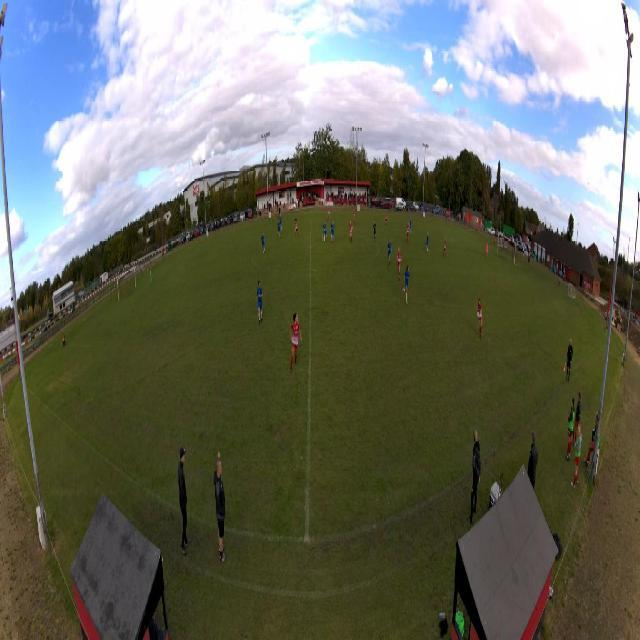ball: (477, 312, 480, 319)
player: (290, 312, 303, 373), (255, 279, 264, 326), (402, 264, 411, 306), (476, 298, 483, 340), (396, 246, 402, 282), (387, 236, 392, 268), (260, 232, 266, 256), (330, 219, 335, 244), (442, 236, 447, 260), (405, 221, 410, 245), (349, 220, 354, 244), (322, 220, 327, 244), (425, 231, 430, 253), (294, 218, 299, 239), (373, 219, 377, 245), (277, 219, 281, 240), (279, 215, 283, 233), (327, 205, 331, 222), (409, 217, 412, 236), (385, 212, 388, 229), (353, 208, 356, 225), (149, 268, 152, 284), (486, 242, 488, 259)
